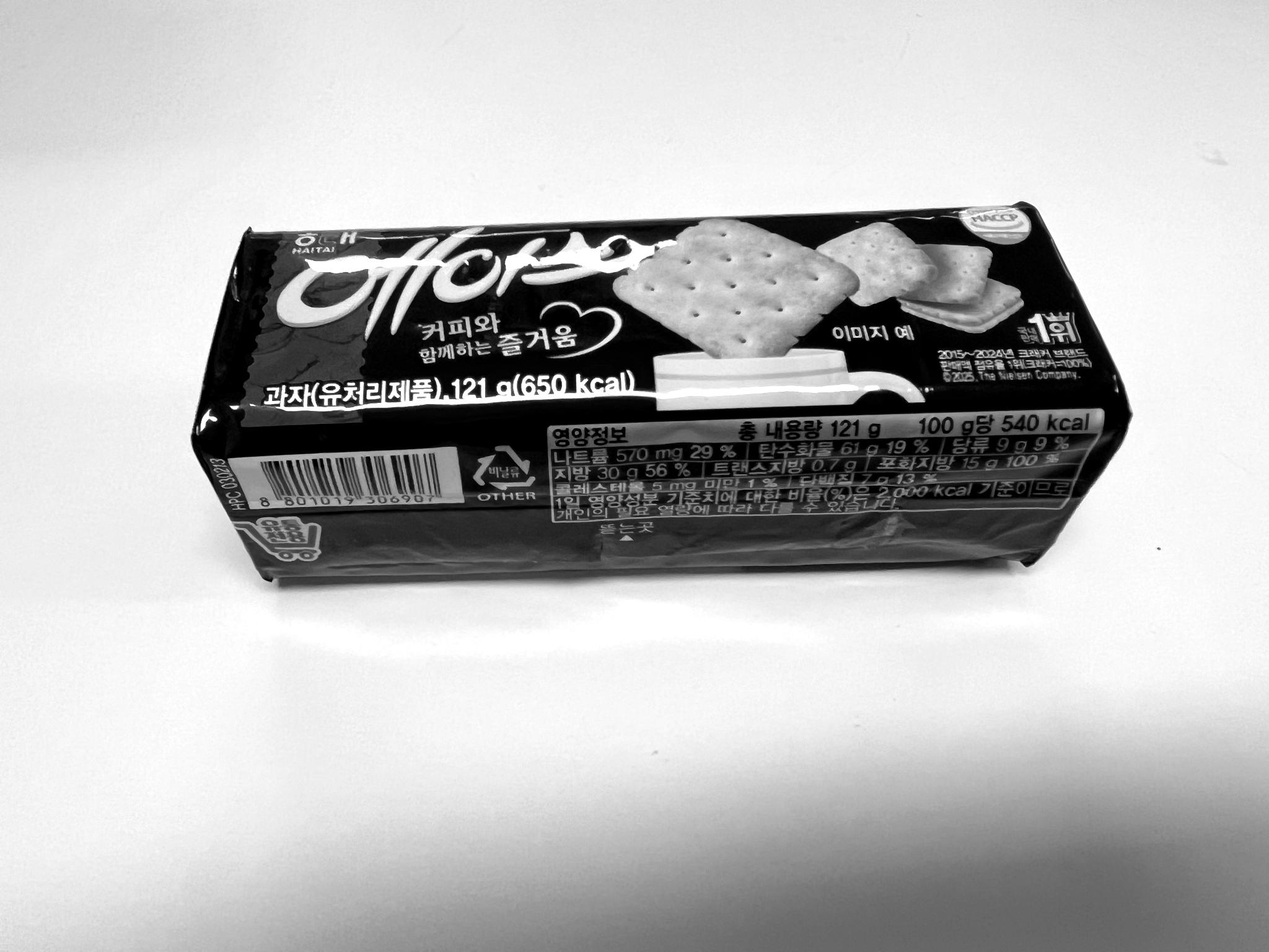cracker_ace: (187, 203, 1136, 584)
